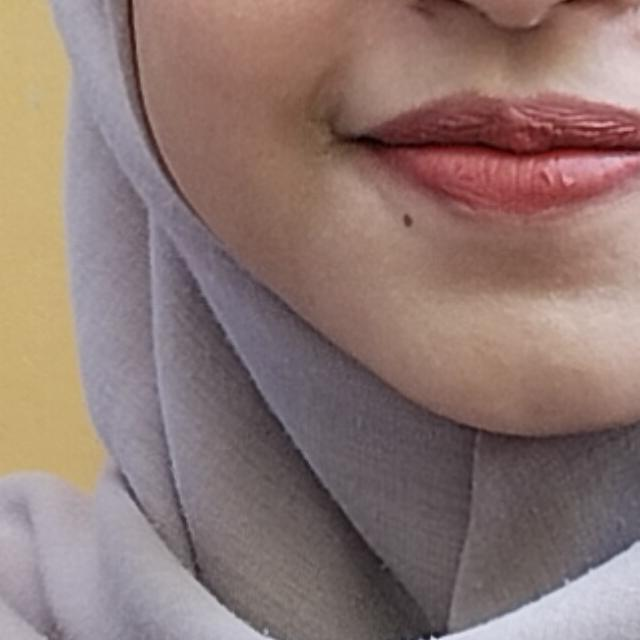baik: (0, 0, 415, 528)
